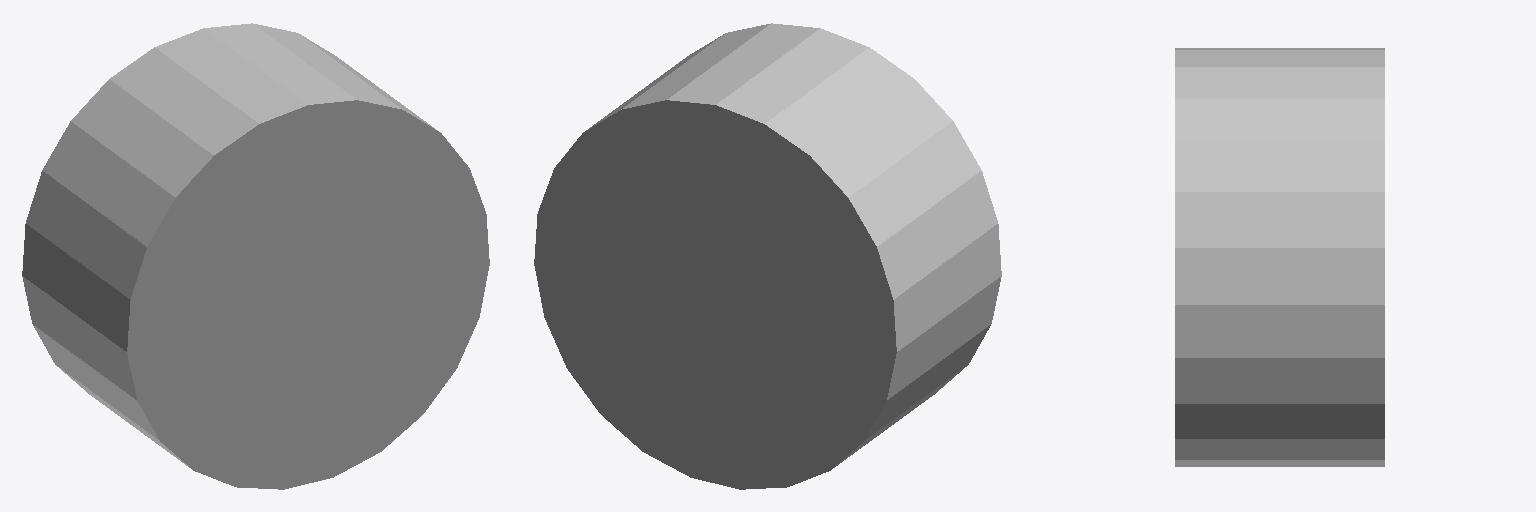
Rendered from target.obj.
The picture shows the model from 3 angles: view 1: azimuth 30°, elevation 25°; view 2: azimuth 150°, elevation 25°; view 3: azimuth 270°, elevation 25°; orthographic projection.
Parts seen in each view (by area): view 1: Circle; view 2: Circle; view 3: Circle.
Boxes of the visible parts, x1,y1,x2,y2 form: Circle: [22, 23, 489, 489]; Circle: [534, 23, 1001, 489]; Circle: [1175, 48, 1384, 466].
Size of the model in its own units: 2 by 1.99 by 1.